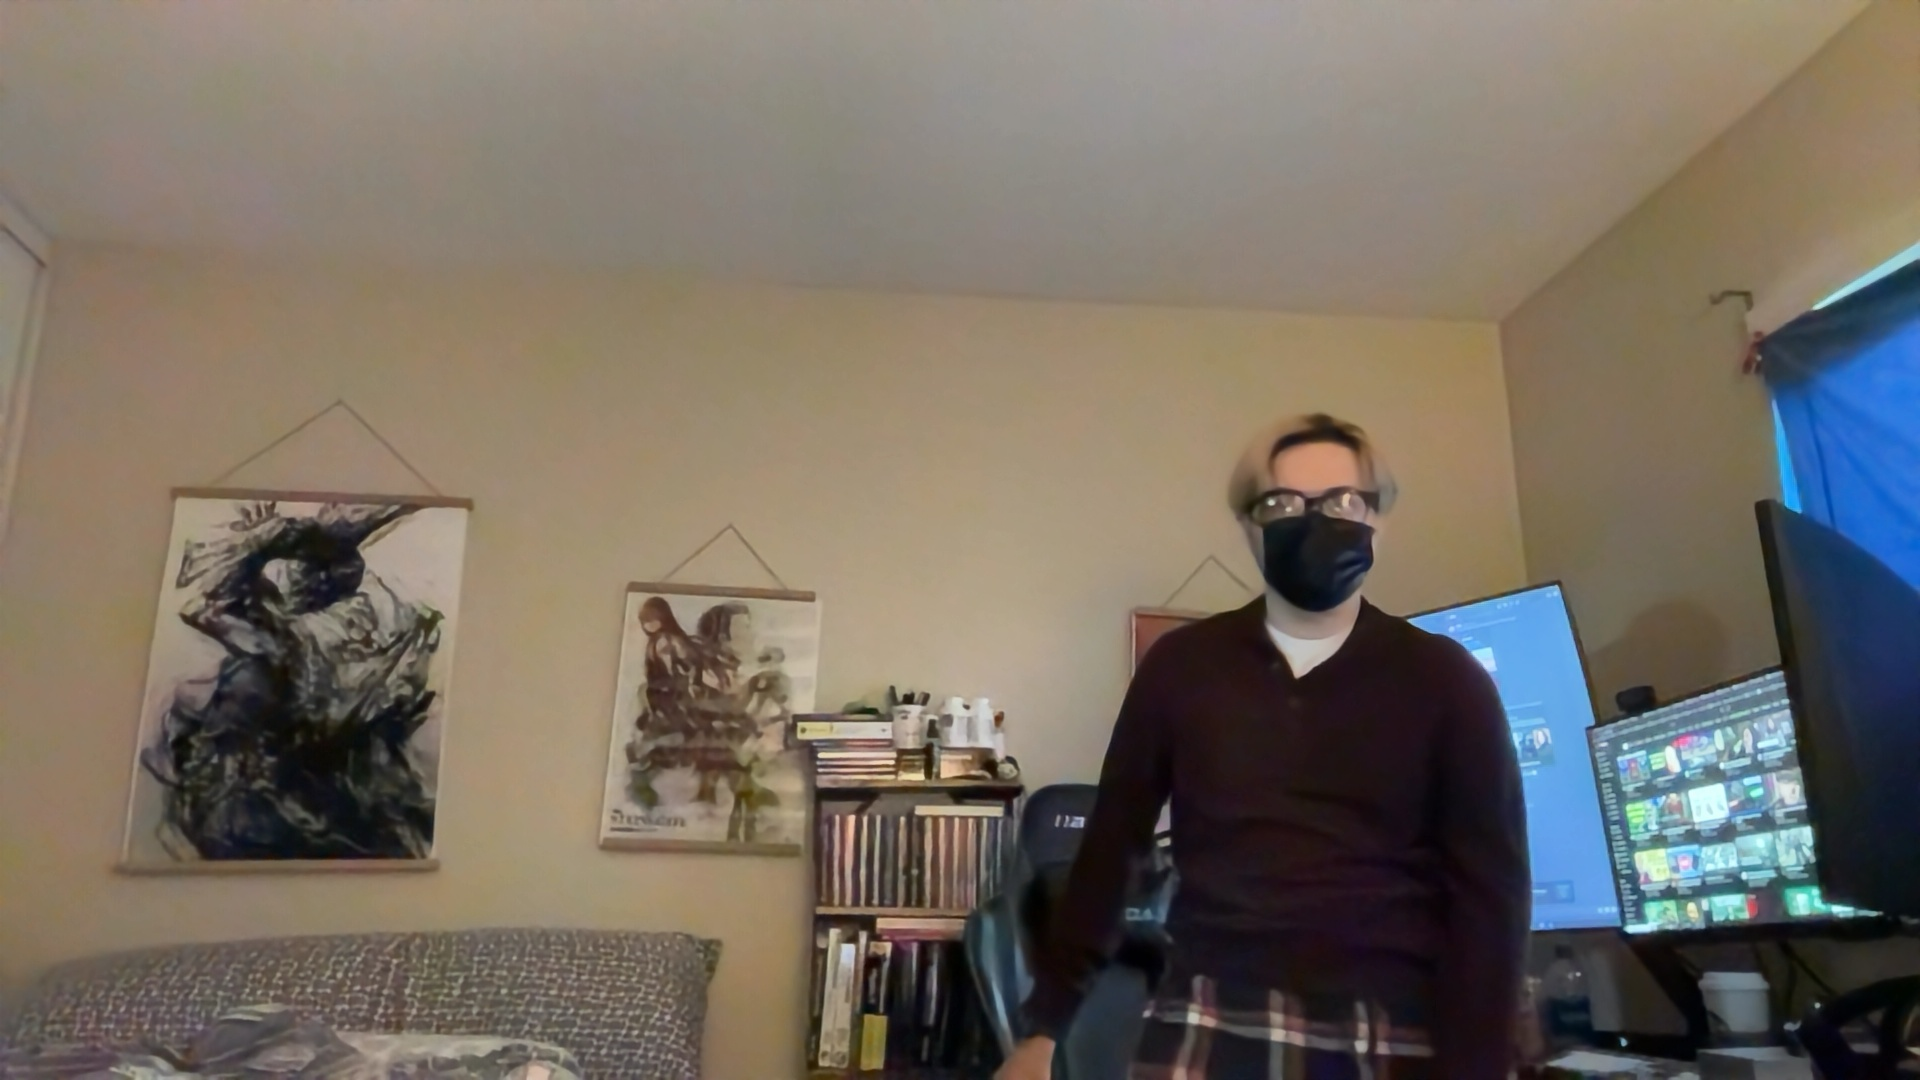glasses: (1244, 479, 1375, 530)
masked: (1250, 458, 1379, 603)
